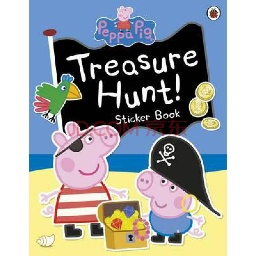Peppa: (40, 121, 131, 239)
